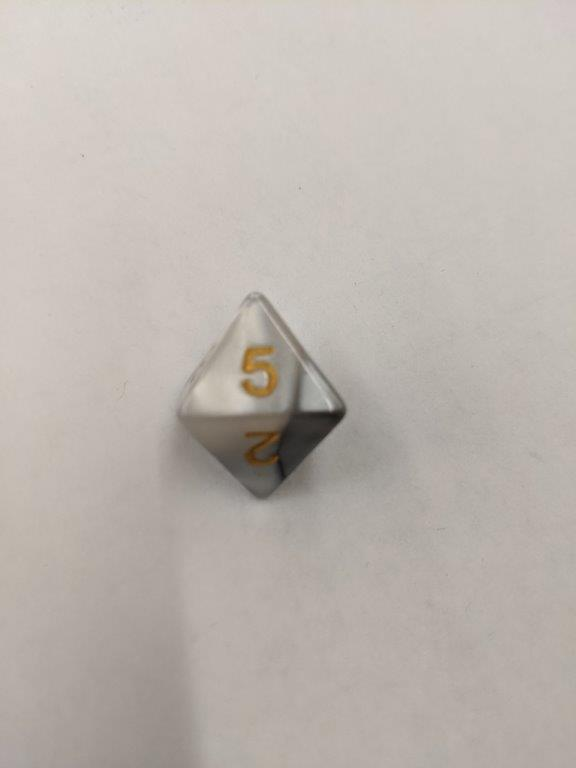d8-5: (170, 291, 350, 504)
